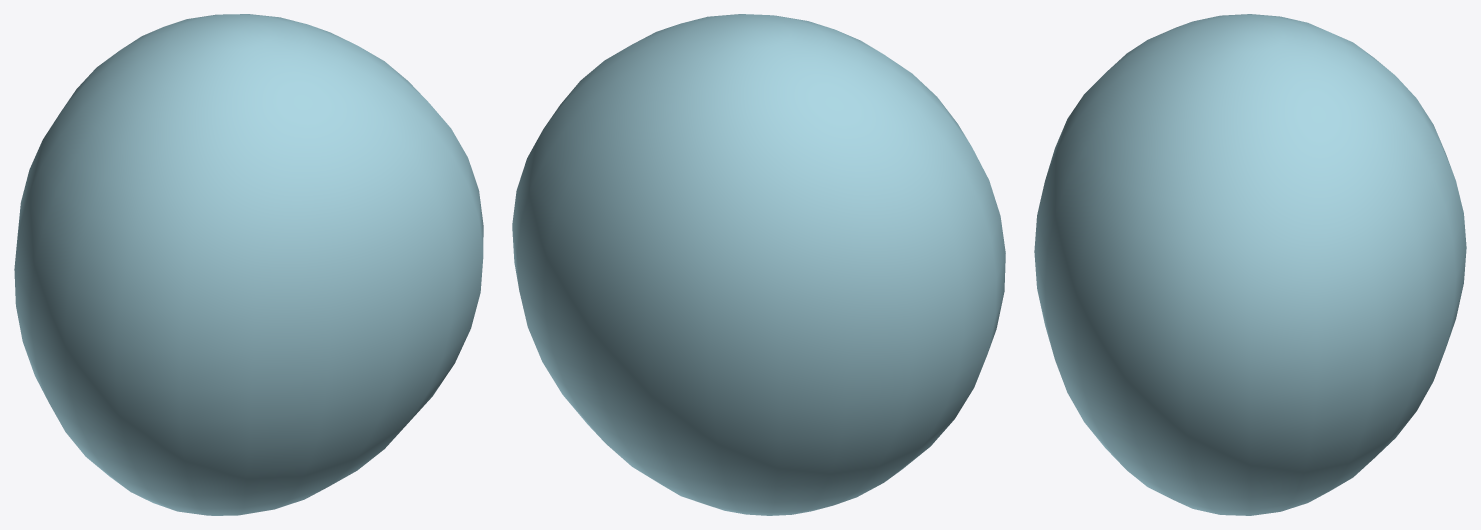
File: wobble5.glb
3 views of the same model, side by side, from view 1: azimuth 30°, elevation 25°; view 2: azimuth 150°, elevation 25°; view 3: azimuth 270°, elevation 25° (orthographic).
Visible parts, largest first — view 1: Base; view 2: Base; view 3: Base.
Boxes of the visible parts, x1,y1,x2,y2 form: Base: (14, 14, 483, 515); Base: (512, 14, 1005, 515); Base: (1034, 14, 1466, 515).
Bounding box in the file's own units: 0.0343 × 0.0355 × 0.03.
